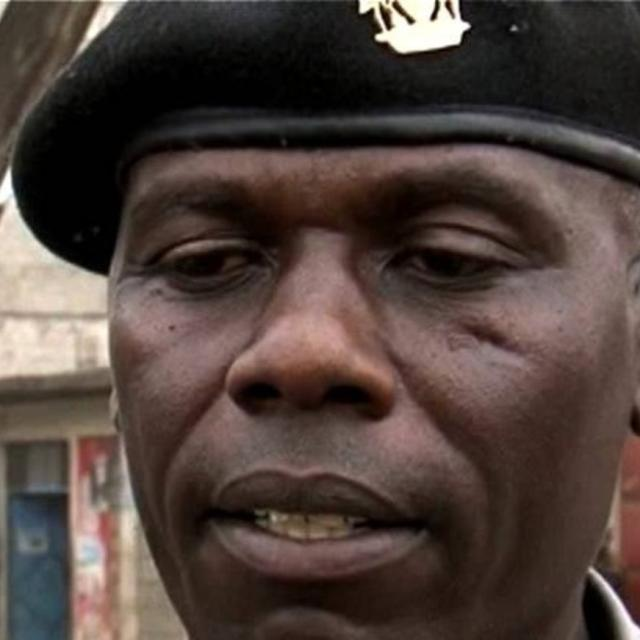Depress: (107, 145, 636, 639)
